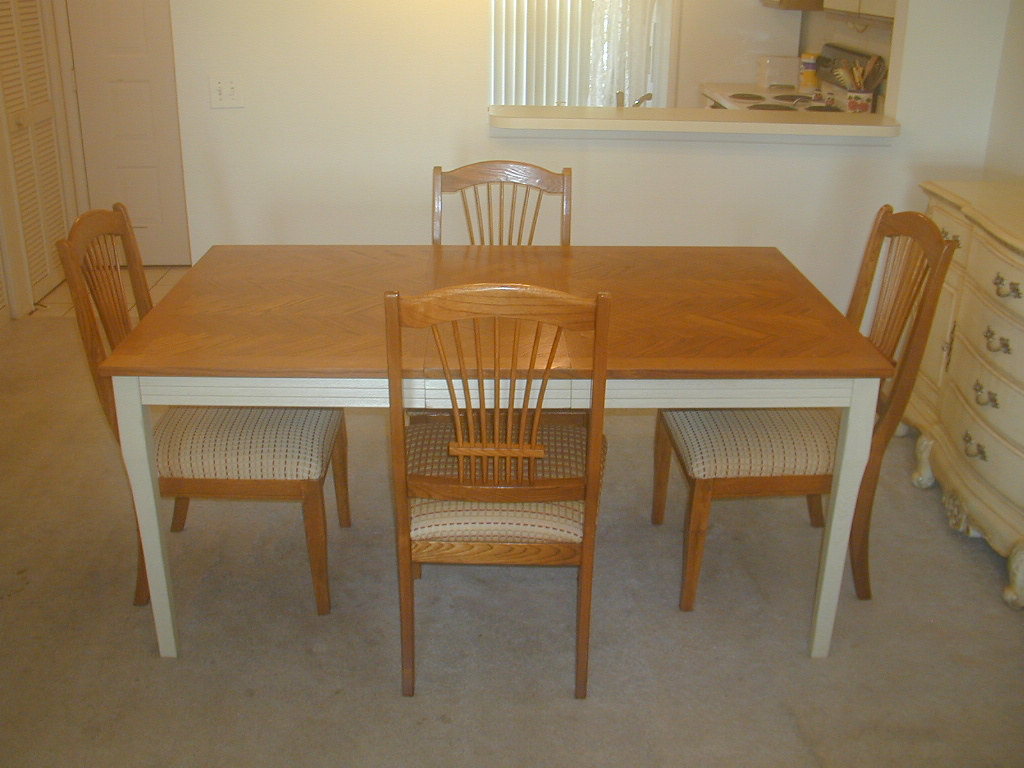chair: (374, 275, 636, 702)
dining table: (131, 205, 866, 659)
